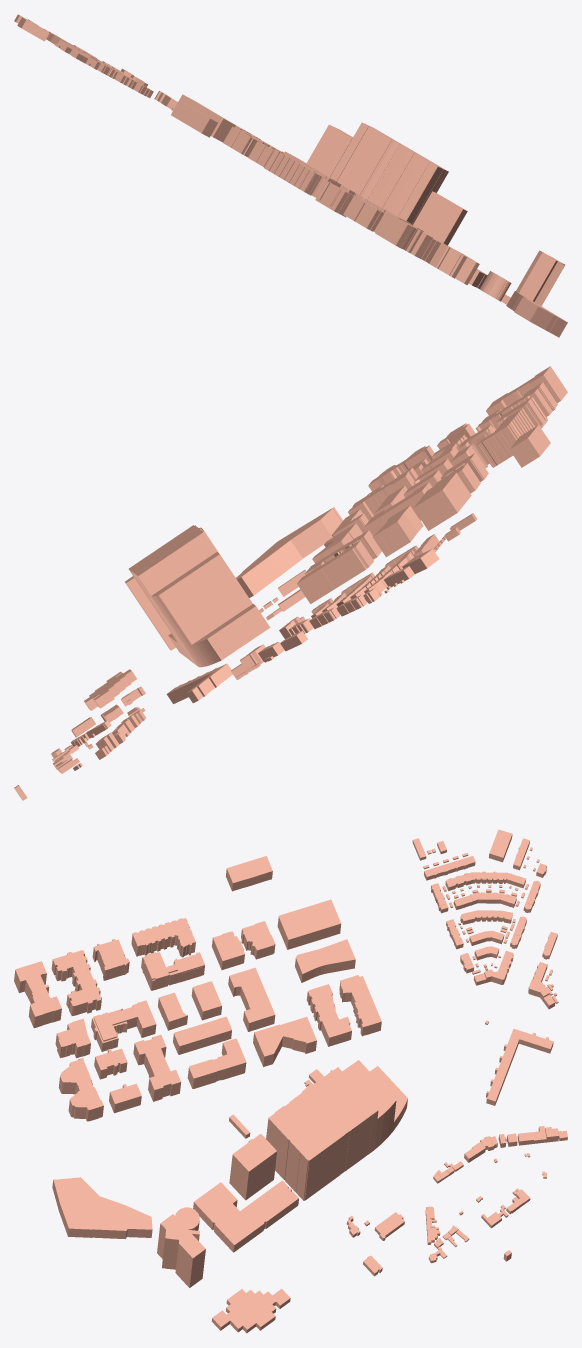
3 renders of one model, top to bottom at view 1: azimuth 30°, elevation 25°; view 2: azimuth 150°, elevation 25°; view 3: azimuth 270°, elevation 25°, orthographic. The views are drawn at different scales.
Bounding box in the file's own units: 540 × 398 × 642.
